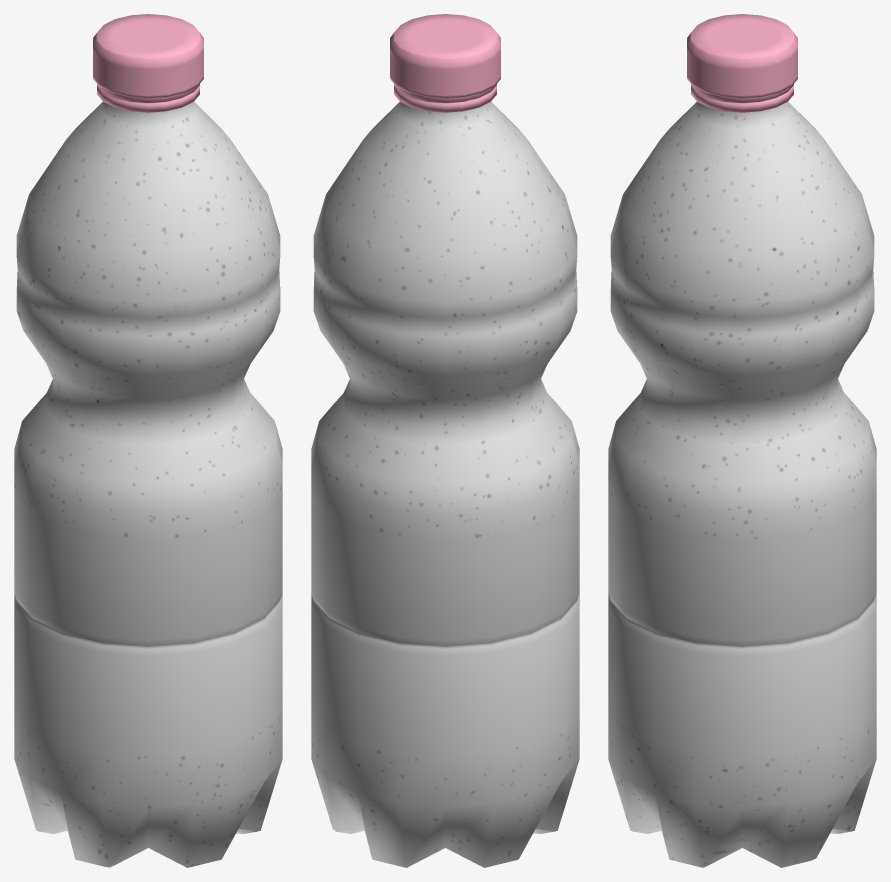
File: Water_Bottle.fbx
The picture shows the model from 3 angles, left to right: view 1: azimuth 30°, elevation 25°; view 2: azimuth 150°, elevation 25°; view 3: azimuth 270°, elevation 25°; orthographic projection.
Visible parts, largest first — view 1: Water_Bottle; view 2: Water_Bottle; view 3: Water_Bottle.
Boxes of the visible parts, x1,y1,x2,y2 form: Water_Bottle: (14, 14, 282, 867); Water_Bottle: (311, 14, 579, 867); Water_Bottle: (608, 14, 876, 867).
Bounding box in the file's own units: 446 × 1432 × 439.
